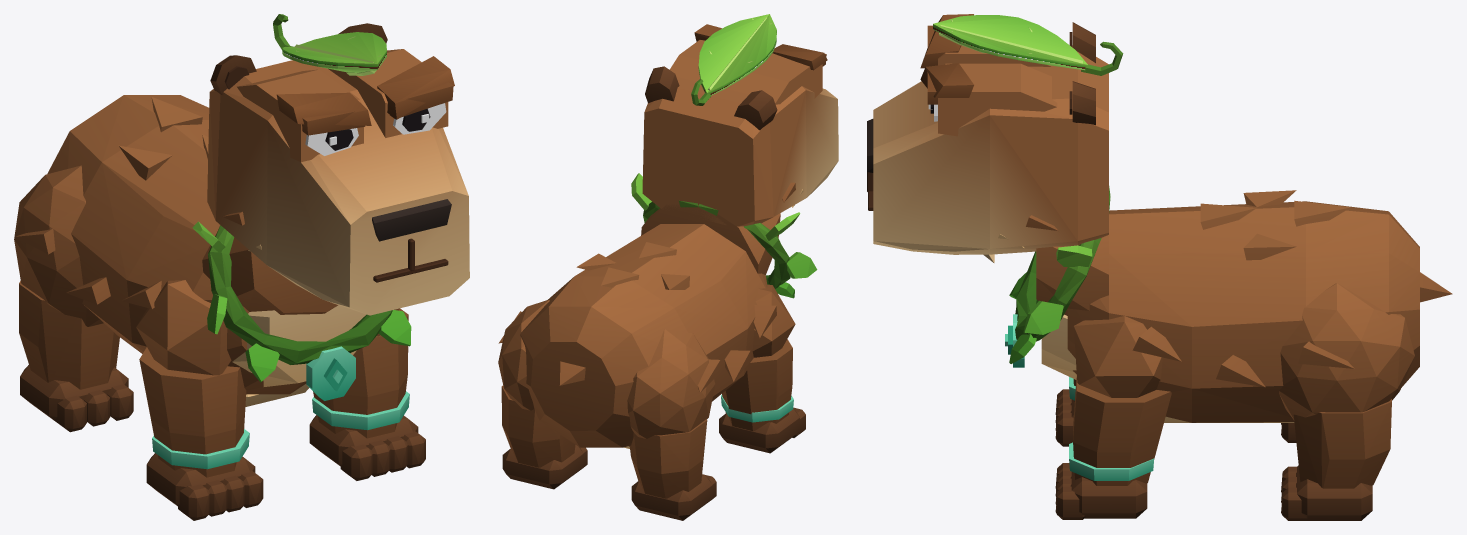
The model's file is CapybaraCounter.glb.
3 renders of one model, left to right at view 1: azimuth 30°, elevation 25°; view 2: azimuth 150°, elevation 25°; view 3: azimuth 270°, elevation 25°, orthographic. The views are drawn at different scales.
Visible parts, largest first — view 1: CapybaraCounter; view 2: CapybaraCounter; view 3: CapybaraCounter.
Boxes of the visible parts, bbox=[...] form: CapybaraCounter: bbox=[14, 14, 469, 520]; CapybaraCounter: bbox=[498, 14, 838, 520]; CapybaraCounter: bbox=[867, 14, 1452, 520].
Size of the model in its own units: 0.5573 by 0.9475 by 1.13.
1 material, 1 textured.
